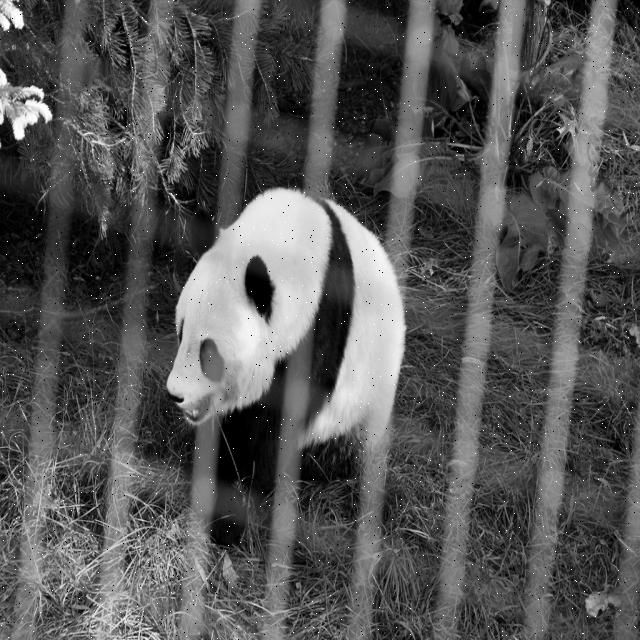panda: (166, 186, 409, 548)
